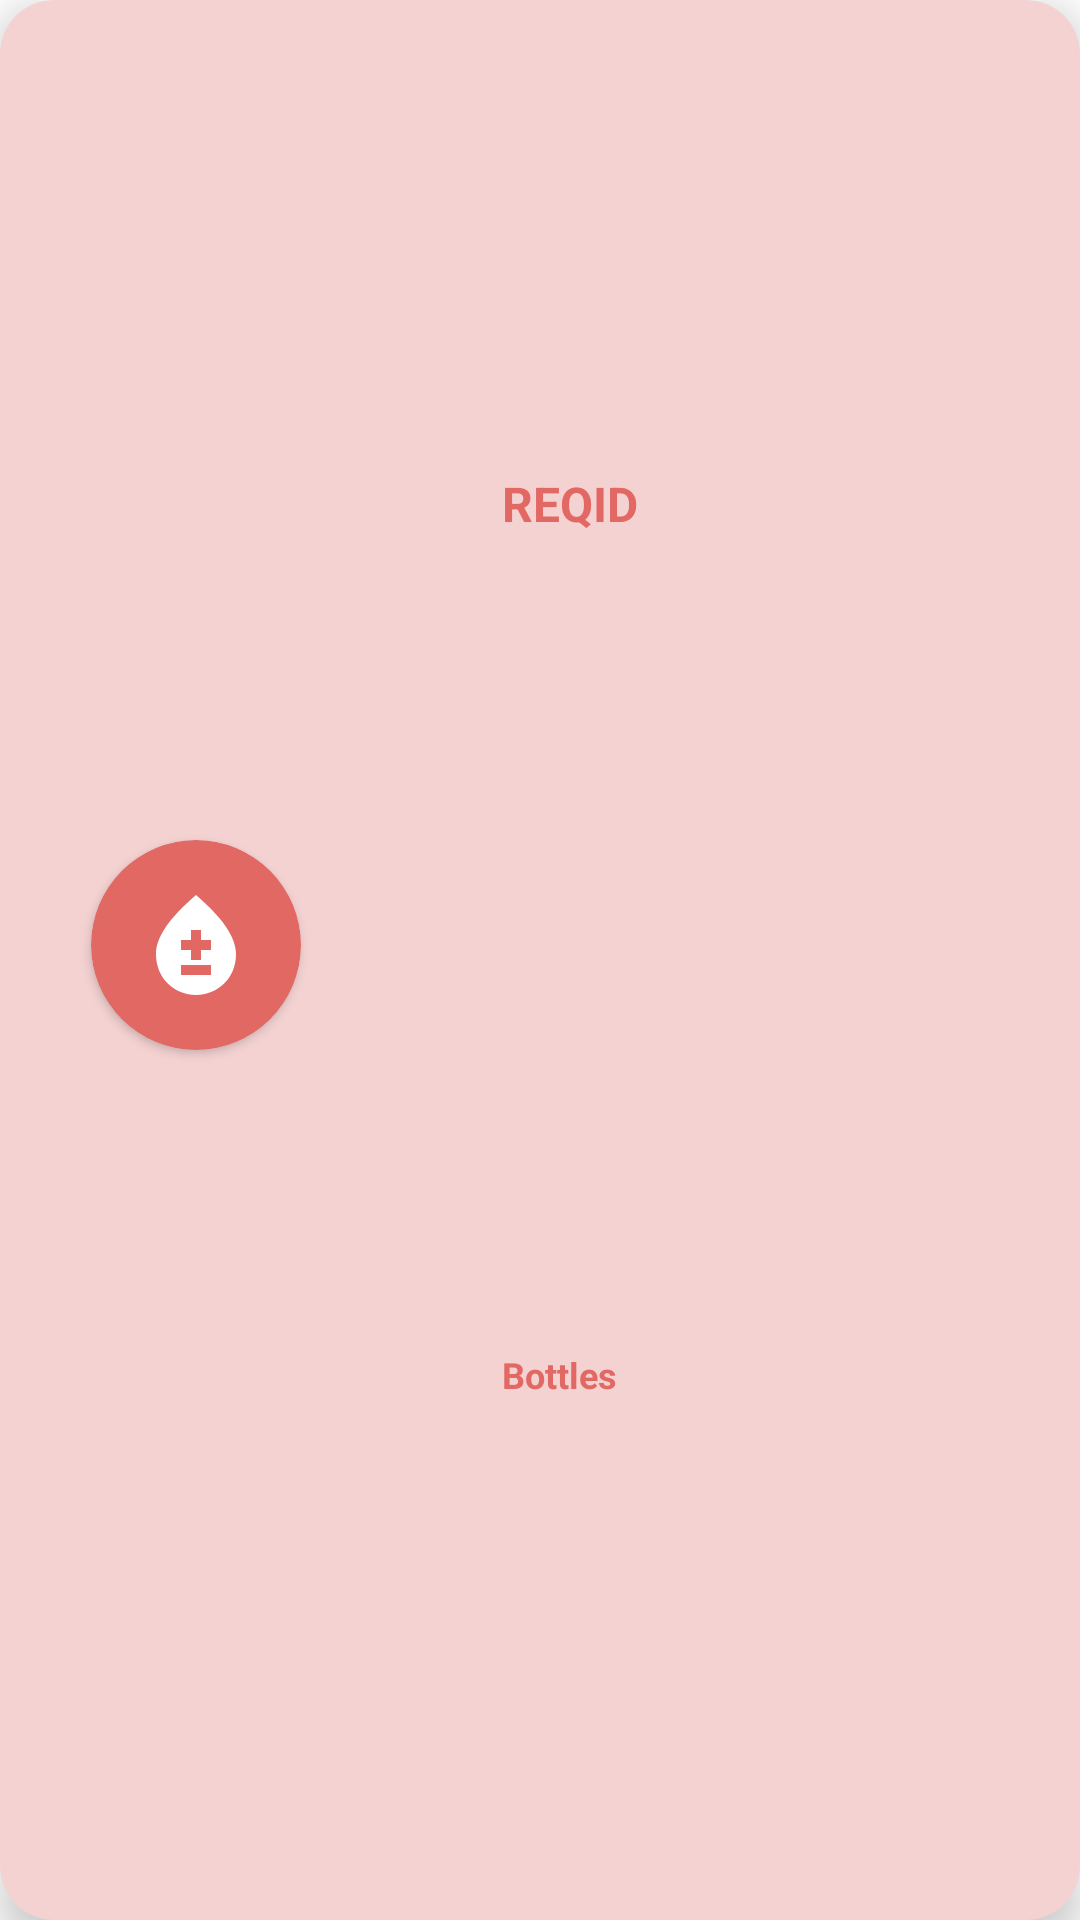

Point at icon controls on the screen. Image size 1080x1920, points as [x,y].
bloodtype: [196,945]
